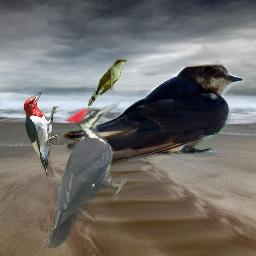Cuckoo: (88, 59, 127, 106)
Swallow: (62, 64, 244, 166)
Woodpecker: (42, 100, 127, 248), (23, 91, 59, 177)
